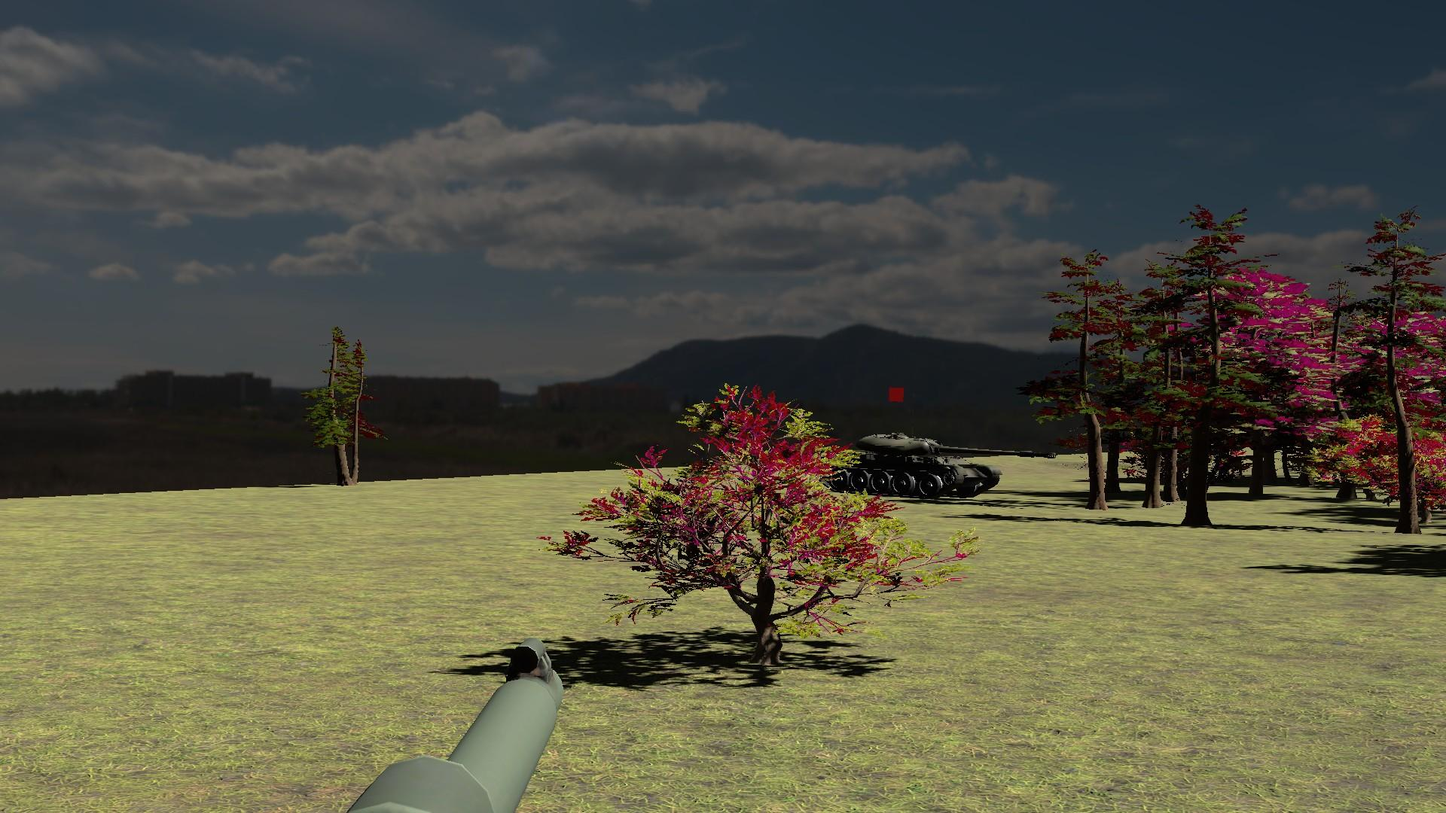Tank: (808, 424, 1060, 508)
